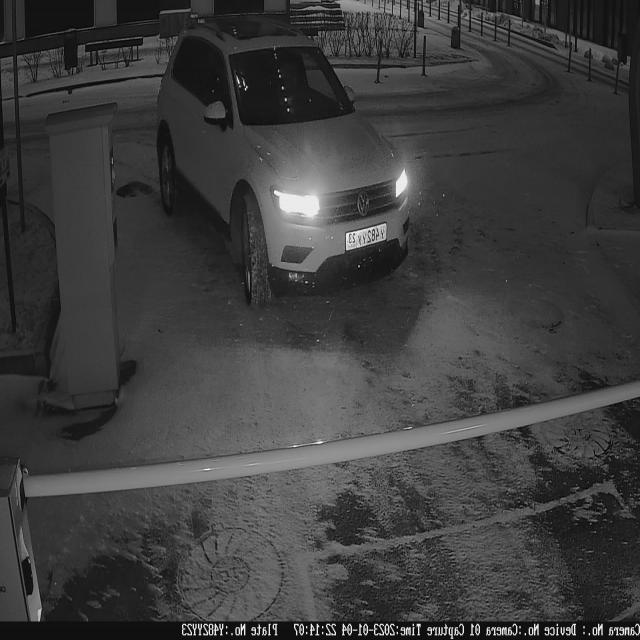car-plate-numbers: (345, 219, 390, 257)
